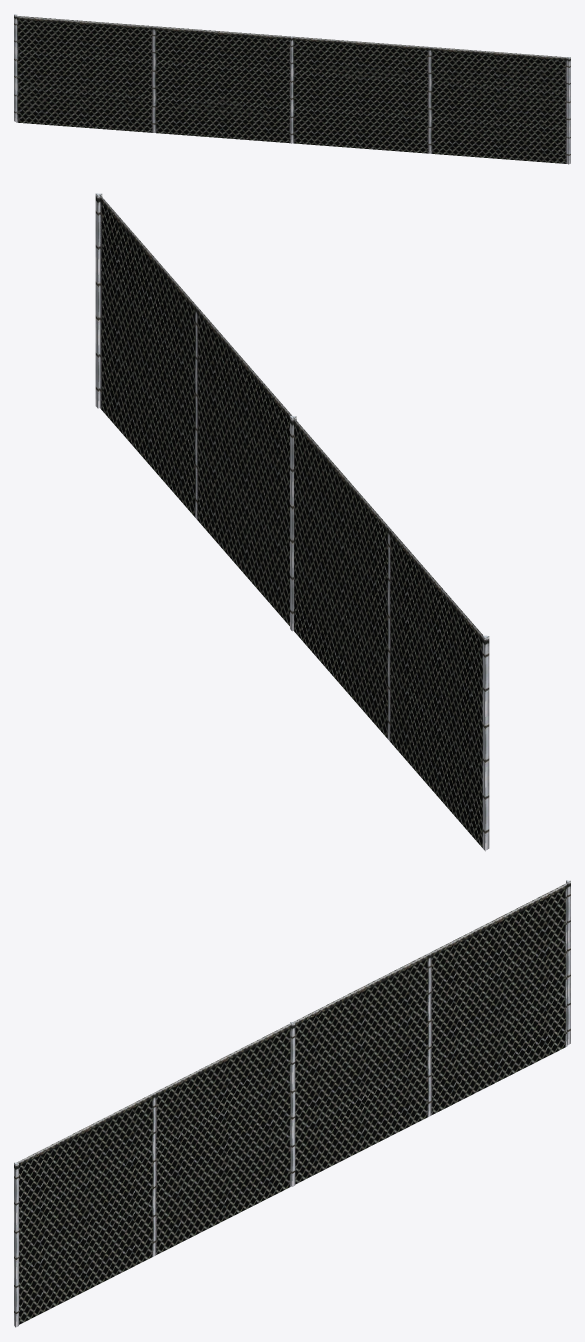
The model's file is meshfence1_lan.obj.
3 views of the same model, one above another, from view 1: azimuth 30°, elevation 25°; view 2: azimuth 150°, elevation 25°; view 3: azimuth 270°, elevation 25° (orthographic). The views are drawn at different scales.
Visible parts, largest first — view 1: meshfence1_LAn; view 2: meshfence1_LAn; view 3: meshfence1_LAn.
Boxes of the visible parts, box(x1,y1,x2,y2) form: meshfence1_LAn: box(14, 14, 570, 164); meshfence1_LAn: box(95, 193, 489, 851); meshfence1_LAn: box(14, 880, 570, 1327).
Bounding box in the file's own units: 10.61 × 2.93 × 8.88.
